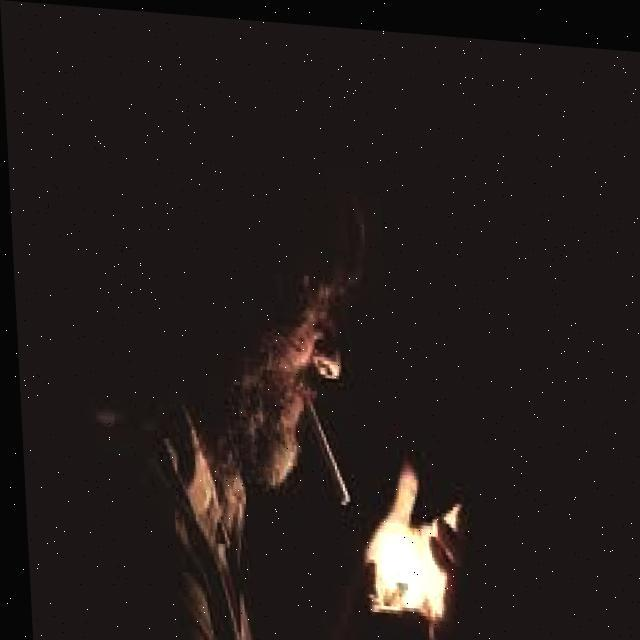Fire: (367, 522, 416, 584)
